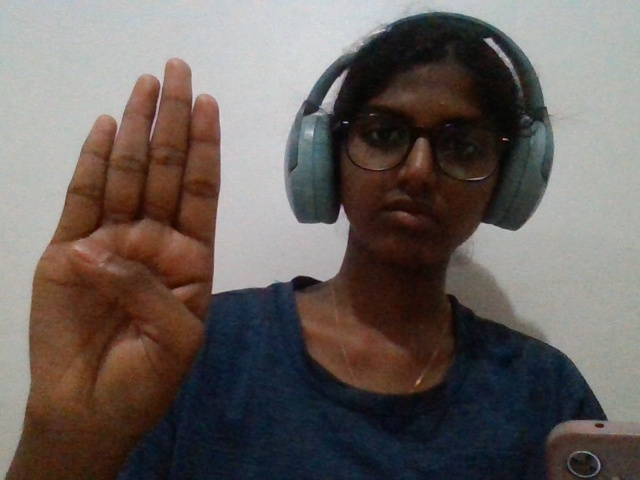B: (12, 28, 238, 455)
